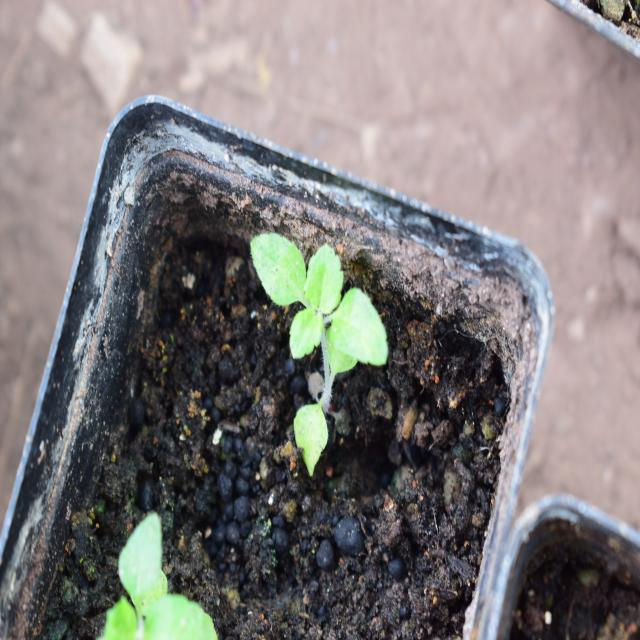billygoat_weed: (232, 228, 397, 467)
